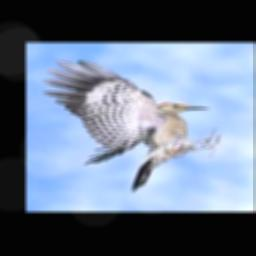Woodpecker: (42, 61, 223, 192)
